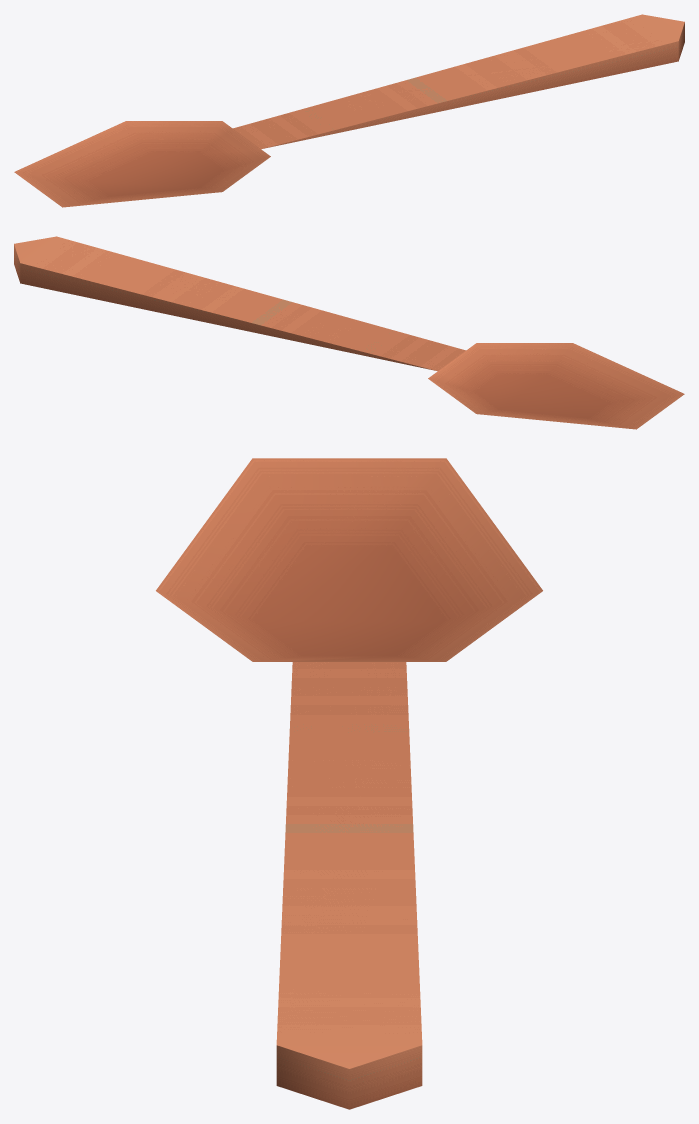
The model's file is food-cooking-spoon.glb.
3 renders of one model, top to bottom at view 1: azimuth 30°, elevation 25°; view 2: azimuth 150°, elevation 25°; view 3: azimuth 270°, elevation 25°, orthographic. The views are drawn at different scales.
Parts seen in each view (by area): view 1: cooking-spoon; view 2: cooking-spoon; view 3: cooking-spoon.
Part boxes in pixels (x1,y1,x2,y2): cooking-spoon: (14, 14, 684, 207); cooking-spoon: (14, 236, 684, 429); cooking-spoon: (156, 458, 542, 1109).
Size of the model in its own units: 0.6656 by 0.0244 by 0.1728.
Materials: 1 (1 with a texture image).
